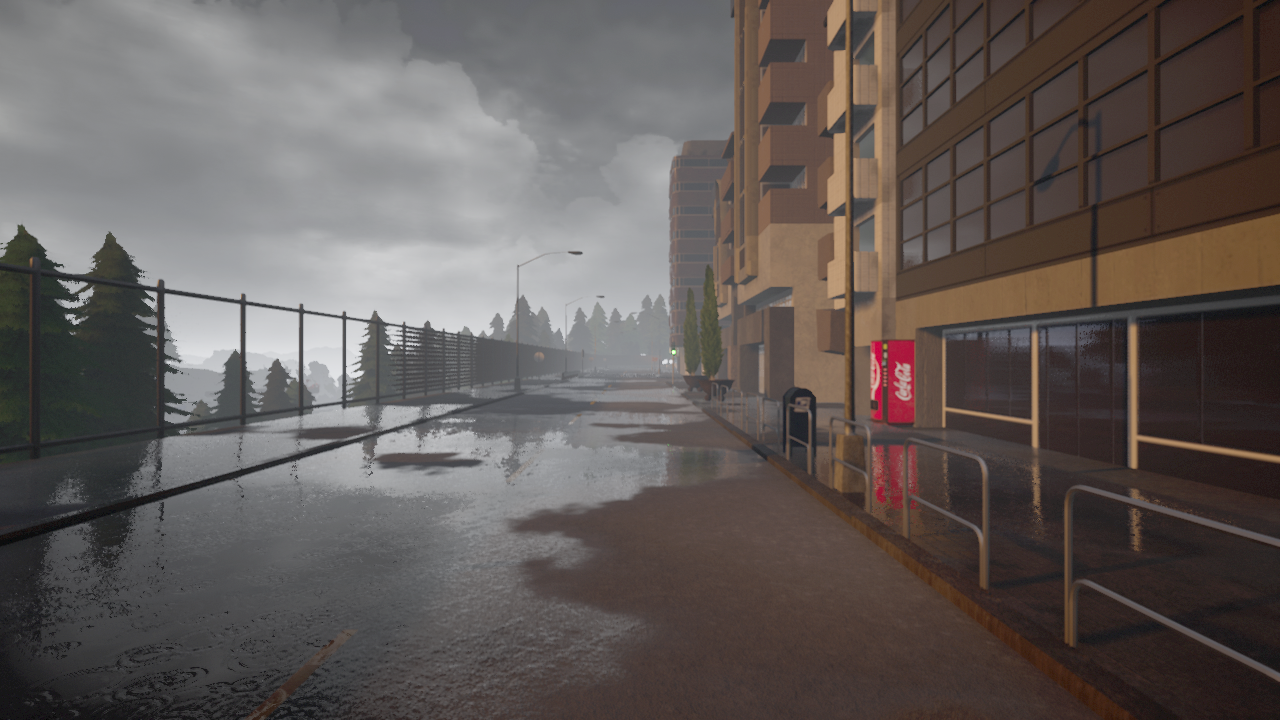green: (670, 342, 676, 356)
